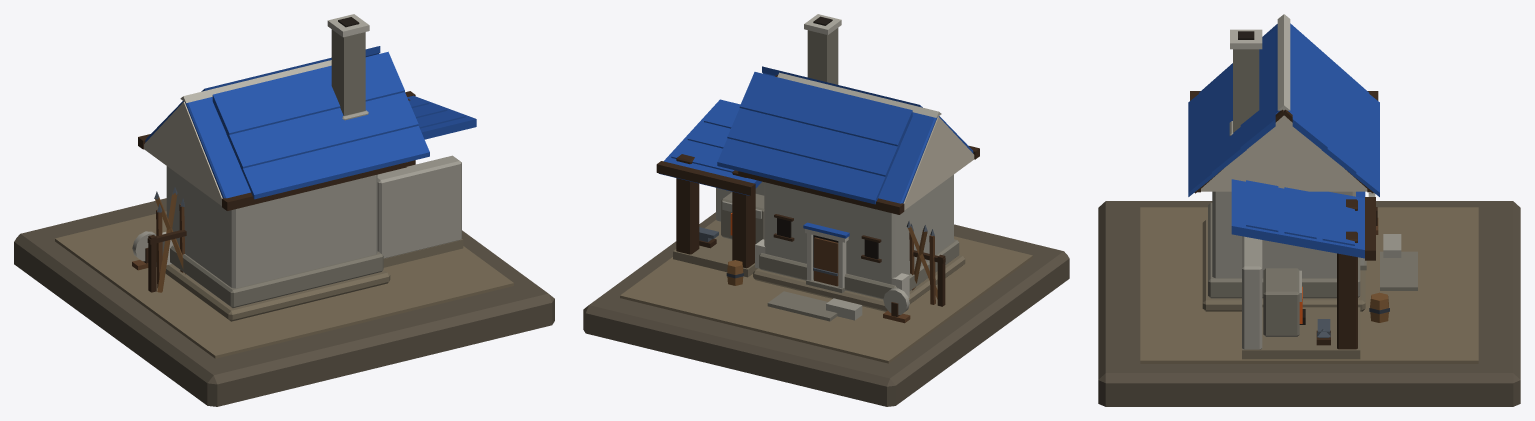
File: 铁匠铺_2星.glb
3 renders of one model, left to right at view 1: azimuth 30°, elevation 25°; view 2: azimuth 150°, elevation 25°; view 3: azimuth 270°, elevation 25°, orthographic. The views are drawn at different scales.
Visible parts, largest first — view 1: 铁匠铺_2星; view 2: 铁匠铺_2星; view 3: 铁匠铺_2星.
Part boxes in pixels (left/top/right/bottom): 铁匠铺_2星: left=14, top=14, right=554, bottom=406; 铁匠铺_2星: left=583, top=14, right=1069, bottom=406; 铁匠铺_2星: left=1098, top=14, right=1520, bottom=406.
Size of the model in its own units: 1 by 0.7842 by 1.
